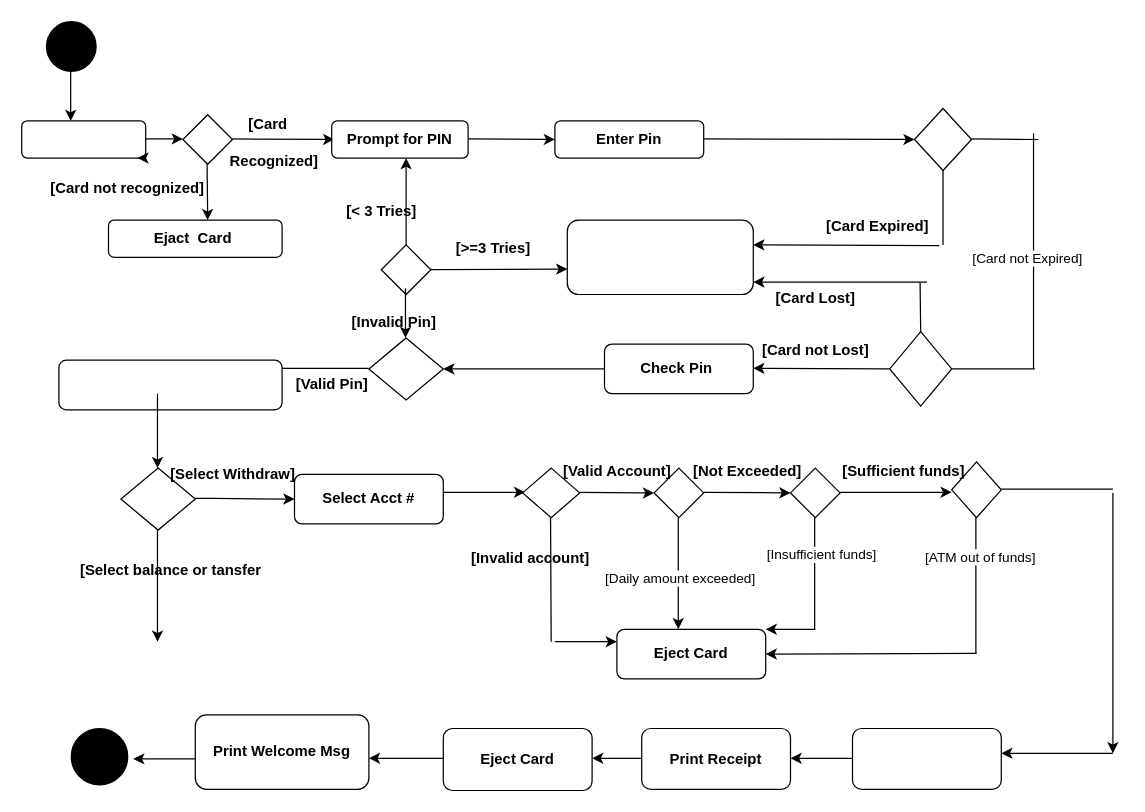
The diagram is 1145 pixels wide and 812 high, and some of its shapes have lost their labels. Here are the shapes that lost their labels. From the top down, the centre of each, then its label:
At [83,139]: "Insert ATM Card".
At [659,256]: "Confiscate Card".
At [170,384]: "Prompt For Transaction".
At [926,758]: "Dispence case".
